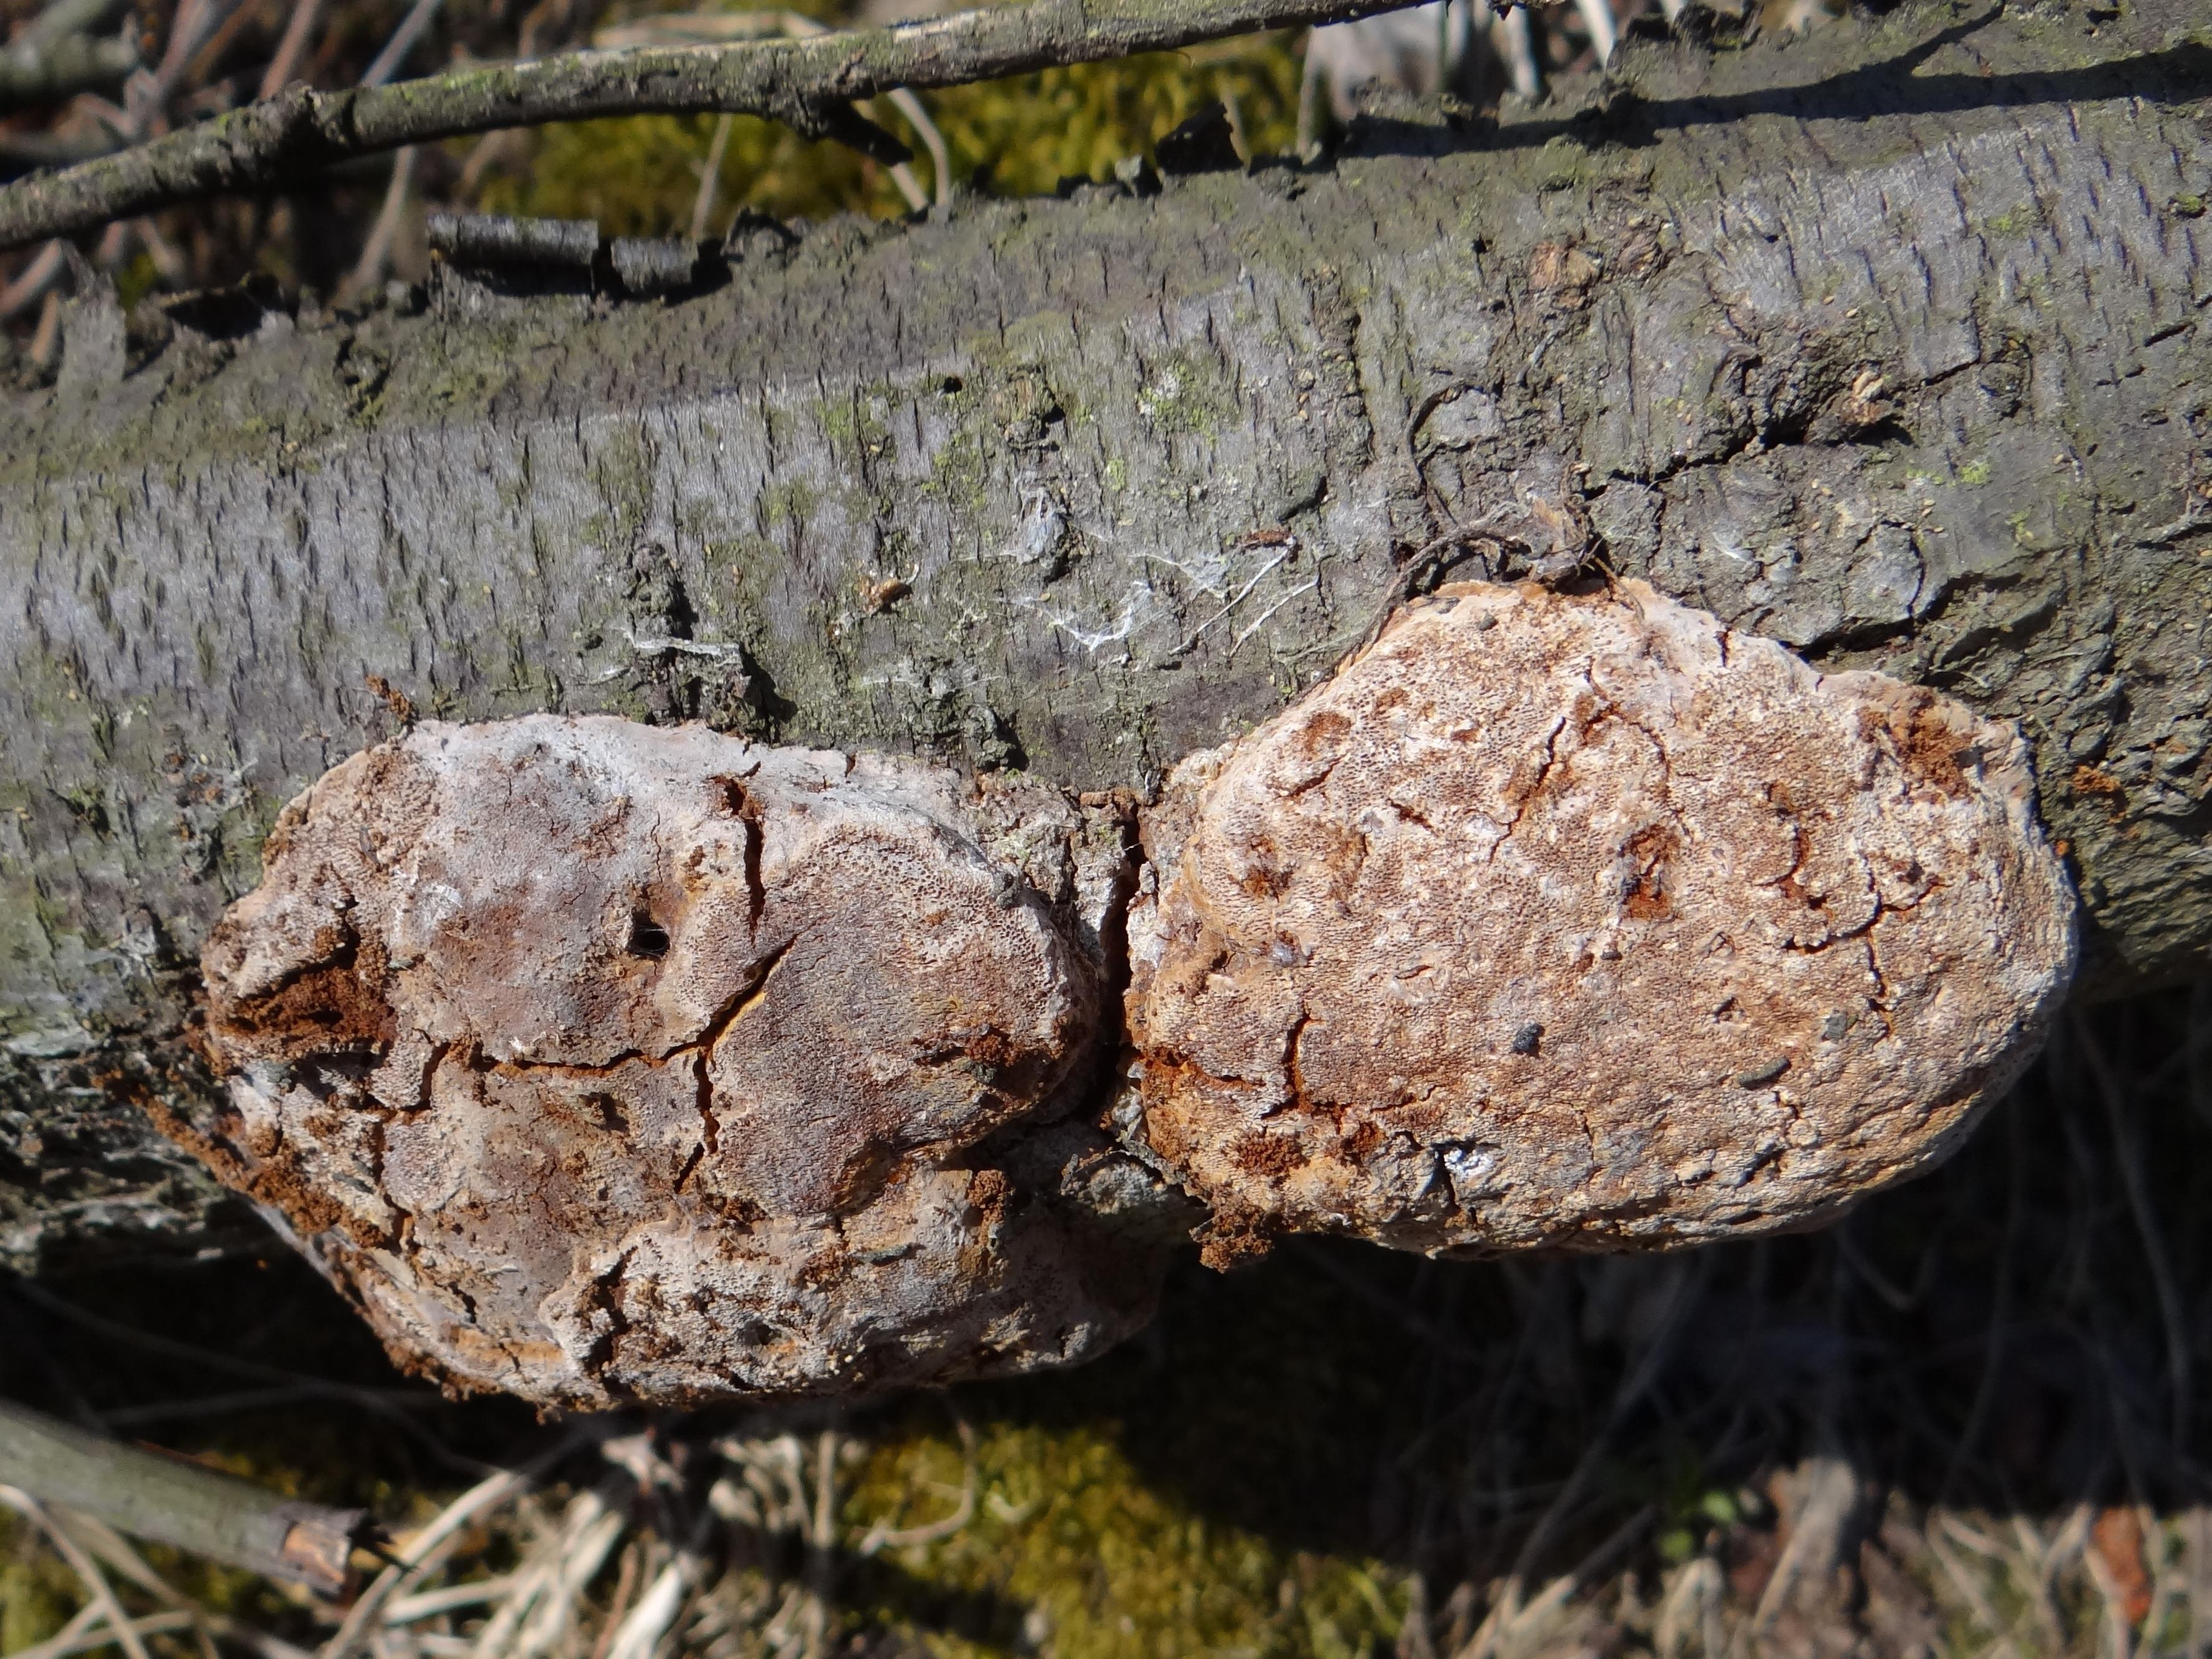Plum tinder fungus: (122, 495, 2142, 1460)
